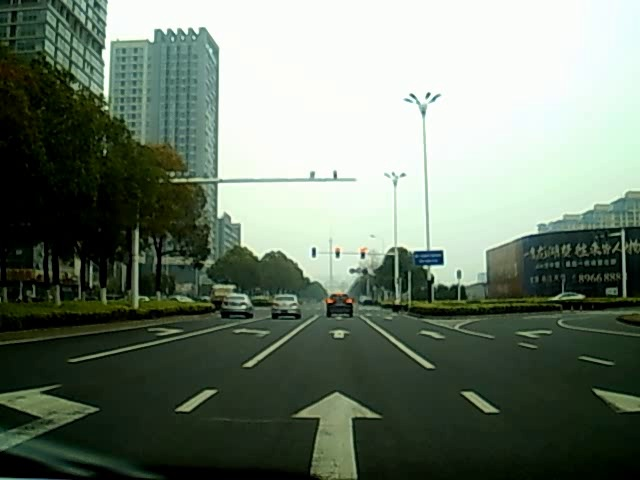Traffic_Light_stop: (358, 248, 368, 262), (335, 247, 341, 260)
